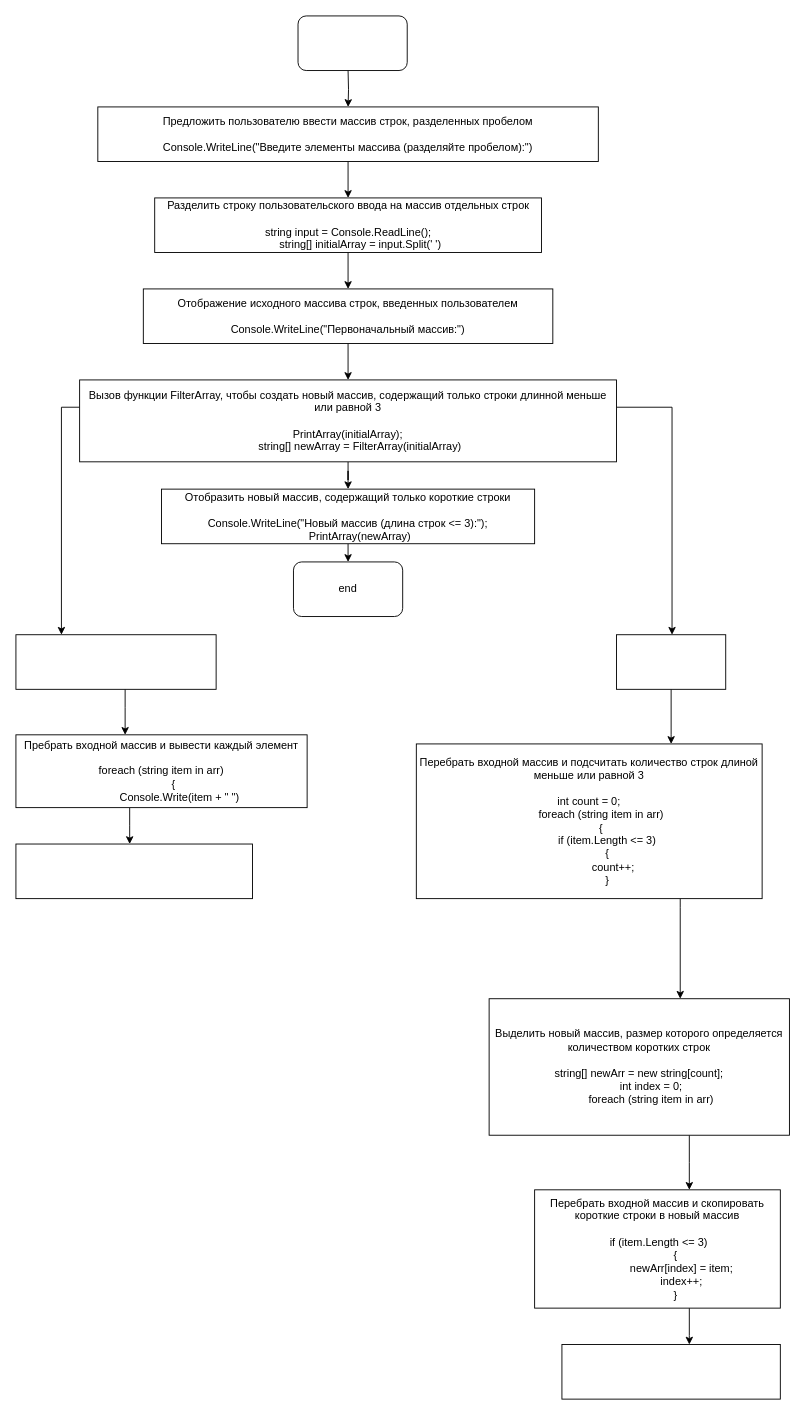
Some shapes in this 805 by 1415 pixel diagram are drawn without their labels. The shapes that lost their labels are listed below. From the top down, each one's box as (x1, y1, x2, y2) in pixels, then its label:
(297, 15, 407, 71): start
(15, 634, 216, 689): PrintArrayFunction static void PrintArray(string[] arr)
(616, 634, 726, 689): FilterArrayFuction Console.WriteLine()
(15, 843, 253, 899): Вывести новую строку после печати всех элементов массива Console.WriteLine()
(561, 1344, 780, 1399): Вывести новый массив, содержащий только короткие строки return newArr
